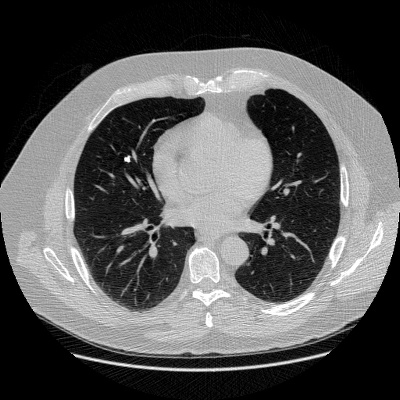PN: (125, 157, 129, 161)
